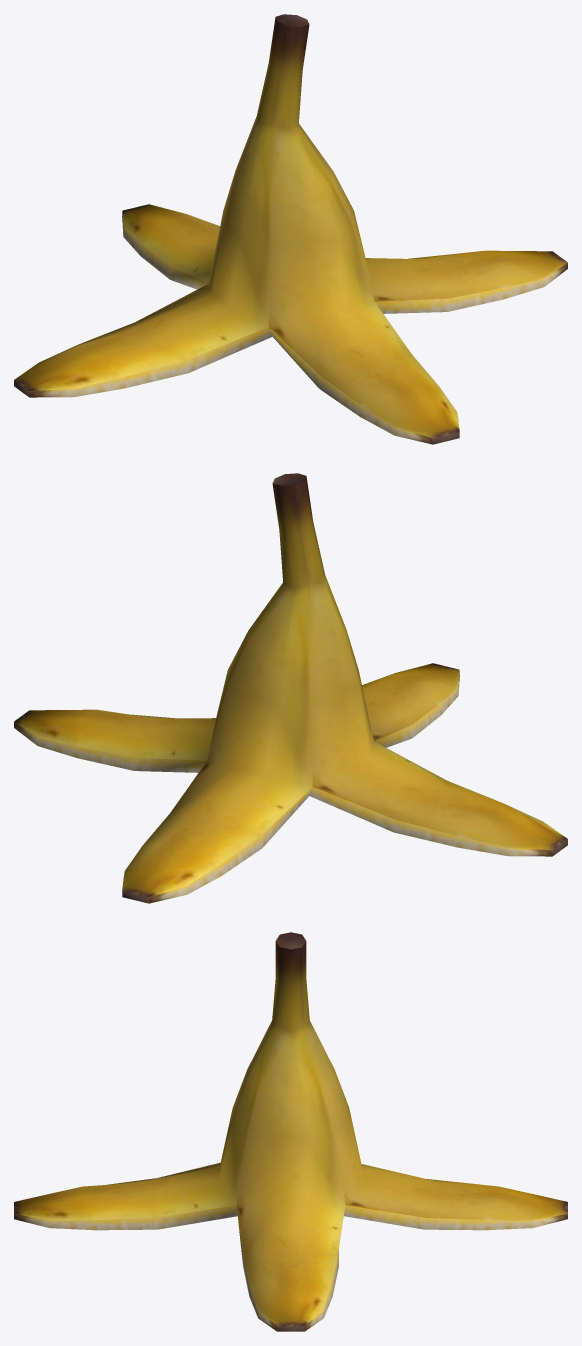
The model's file is banana.glb.
The picture shows the model from 3 angles, top to bottom: view 1: azimuth 30°, elevation 25°; view 2: azimuth 150°, elevation 25°; view 3: azimuth 270°, elevation 25°; orthographic projection. The views are drawn at different scales.
Size of the model in its own units: 2.24 by 1.24 by 2.24.
1 material, 1 textured.
